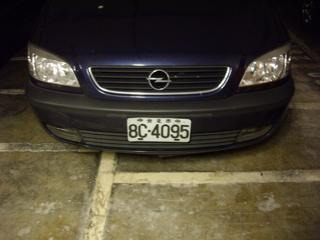plate: (124, 115, 192, 145)
